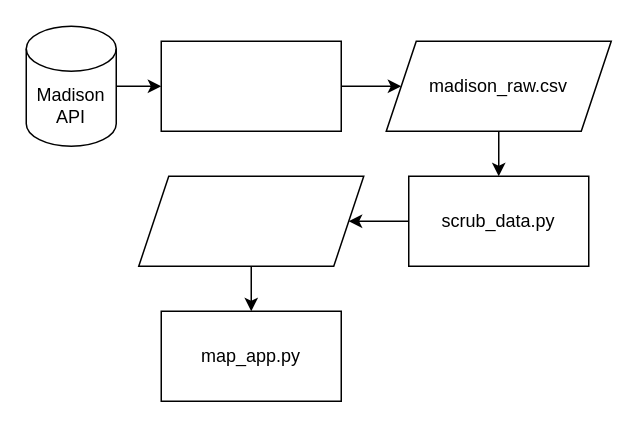
Image size: 638x428. Some labels were removed from this diagram. Each missing label, with the box of its shape:
get_data.py: (160, 40, 341, 131)
madison_scrub.csv: (137, 175, 364, 266)
